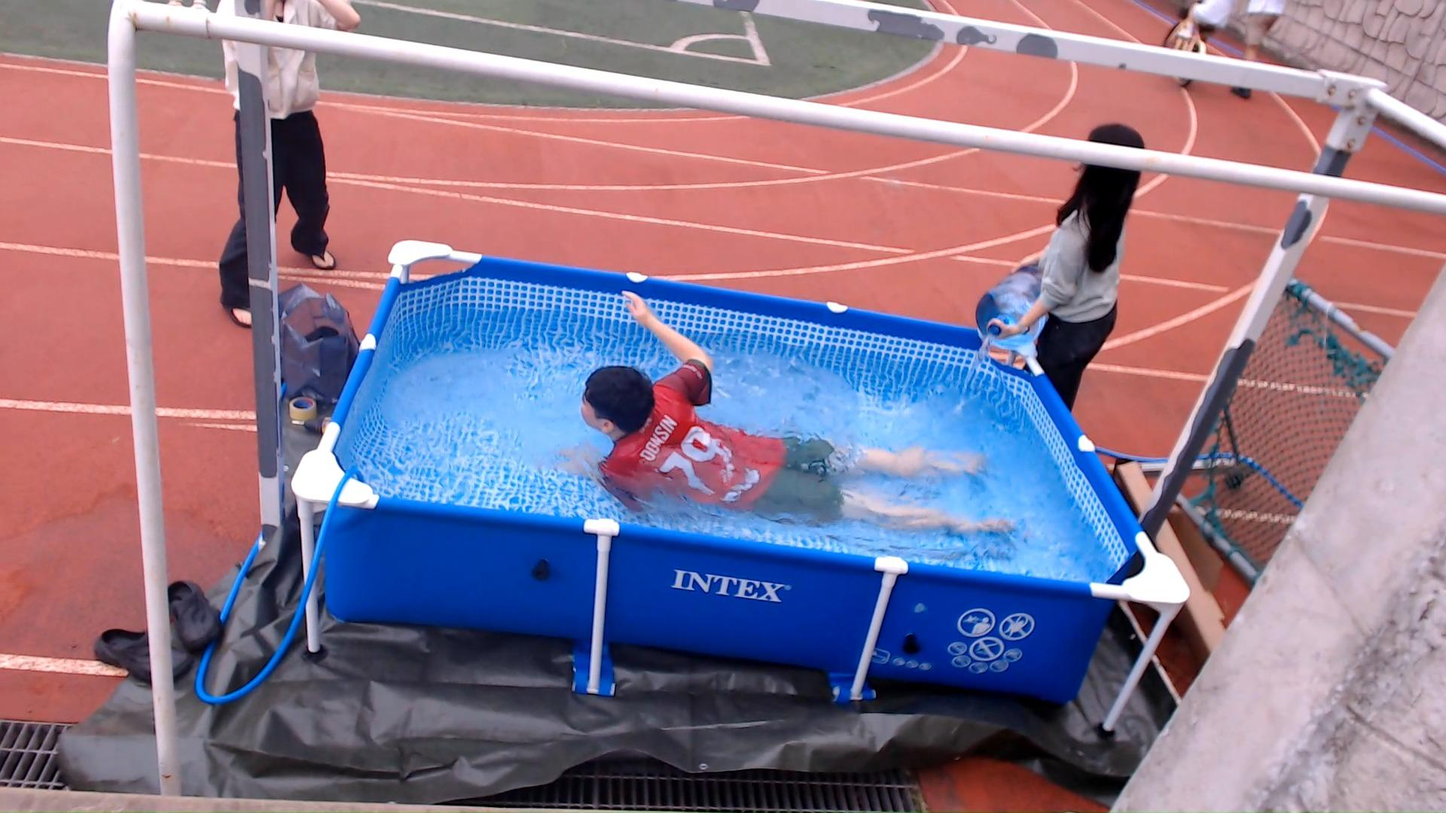Swimming: (546, 244, 1025, 548)
